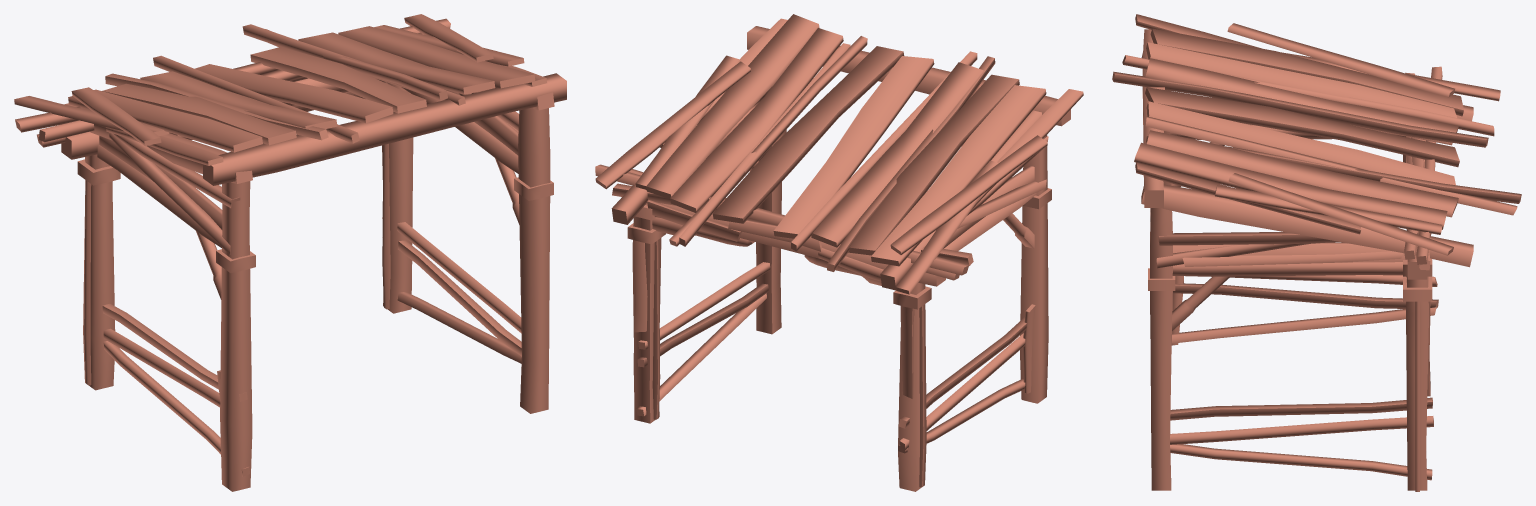
File: woodhut_c.fbx
3 views of the same model, side by side, from view 1: azimuth 30°, elevation 25°; view 2: azimuth 150°, elevation 25°; view 3: azimuth 270°, elevation 25° (orthographic). The views are drawn at different scales.
Parts seen in each view (by area): view 1: Cube.042; view 2: Cube.042; view 3: Cube.042.
Boxes of the visible parts, x1,y1,x2,y2 form: Cube.042: (14,14,566,491); Cube.042: (595,14,1083,491); Cube.042: (1112,14,1521,491).
Size of the model in its own units: 5.4 by 4.31 by 4.84.
